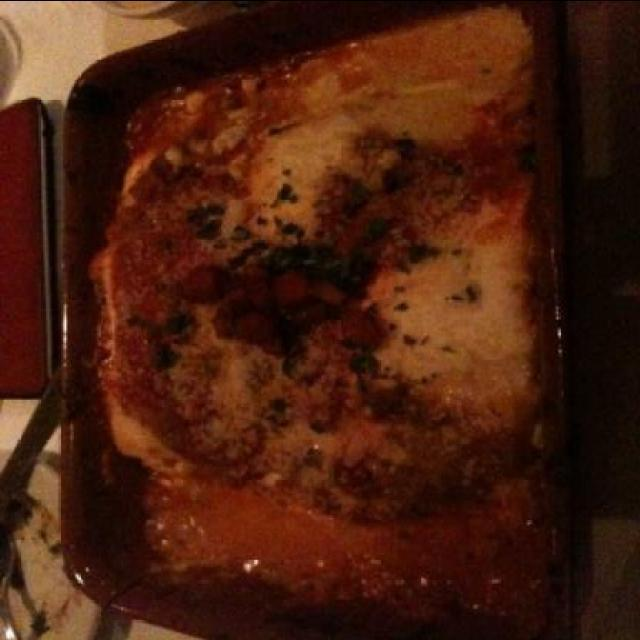Lasagna: (88, 110, 546, 508)
